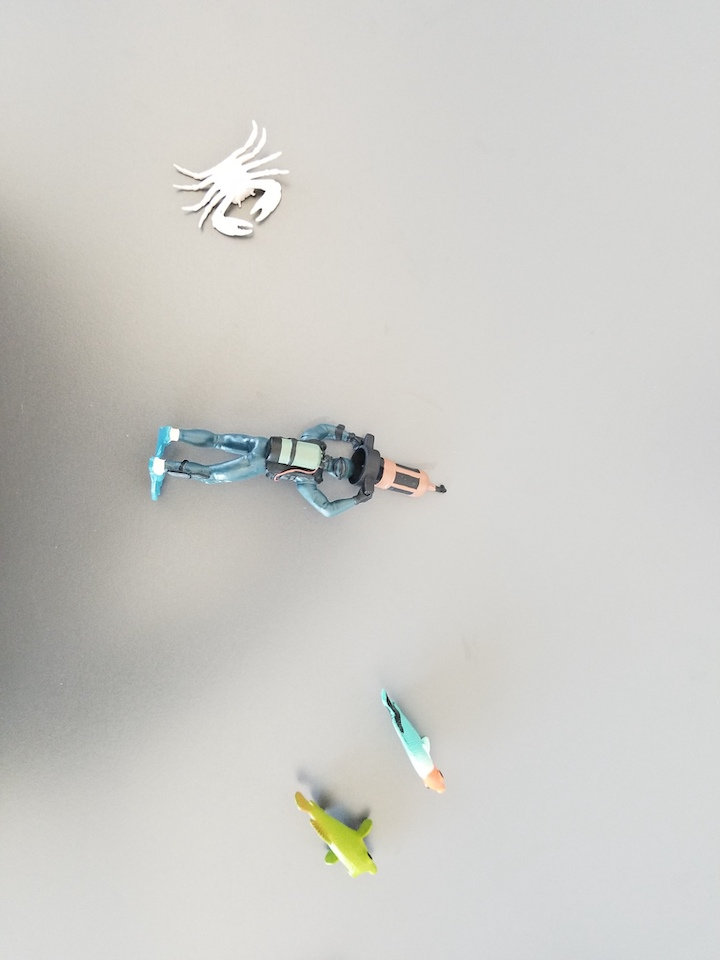crab: (167, 117, 293, 244)
diver: (144, 419, 453, 524)
fish: (291, 790, 387, 883), (379, 685, 453, 798)
